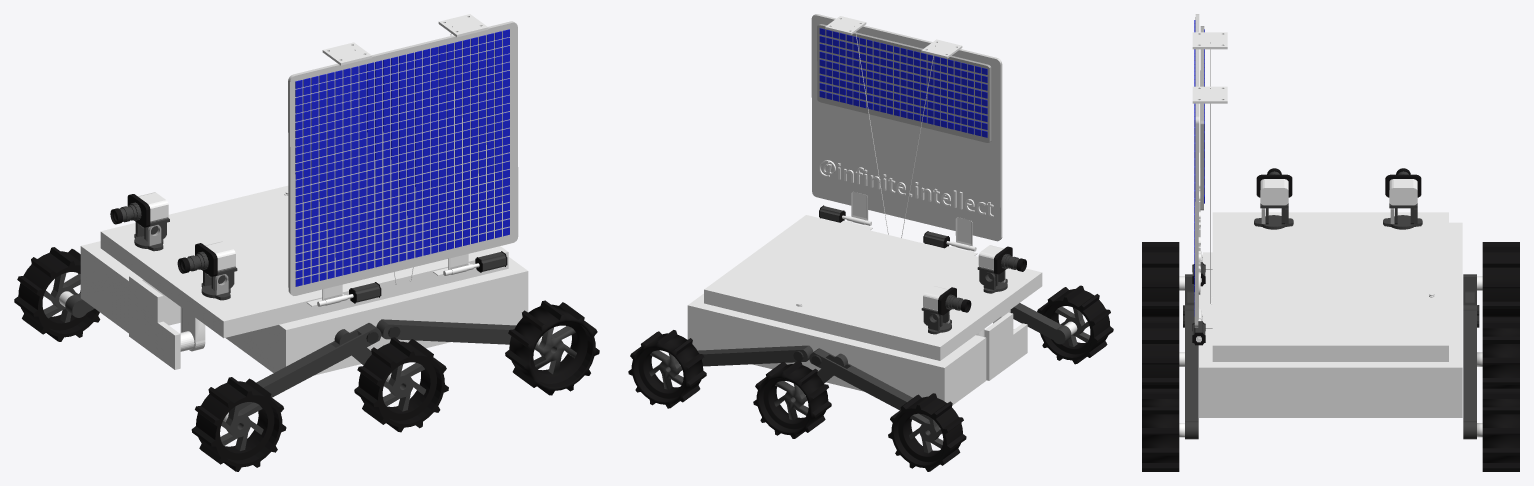
Rendered from pragyan_rover.glb.
3 renders of one model, left to right at view 1: azimuth 30°, elevation 25°; view 2: azimuth 150°, elevation 25°; view 3: azimuth 270°, elevation 25°, orthographic. The views are drawn at different scales.
Parts seen in each view (by area): view 1: PragyanRoverAch.985_39, PragyanRoverAch.952_35, PragyanRoverAch.1028_5, PragyanRoverAch.1023_3, PragyanRoverAch.1026_4, PragyanRoverAch.1014_0, PragyanRoverAch.941_25, PragyanRoverAch.1035_23, PragyanRoverAch.1037_24; view 2: PragyanRoverAch.952_35, PragyanRoverAch.985_39, PragyanRoverAch.1014_0, PragyanRoverAch.1019_2, PragyanRoverAch.1016_1, PragyanRoverAch.1023_3, PragyanRoverAch.941_25, PragyanRoverAch.1032_22, PragyanRoverAch.1031_21, PragyanRoverAch.1035_23; view 3: PragyanRoverAch.952_35, PragyanRoverAch.985_39, PragyanRoverAch.1019_2, PragyanRoverAch.1028_5, PragyanRoverAch.1014_0, PragyanRoverAch.1023_3, PragyanRoverAch.1016_1, PragyanRoverAch.1026_4, PragyanRoverAch.1031_21, PragyanRoverAch.1037_24, PragyanRoverAch.1032_22.
Boxes of the visible parts, x1,y1,x2,y2 form: PragyanRoverAch.985_39: (288, 14, 518, 305); PragyanRoverAch.952_35: (80, 185, 528, 375); PragyanRoverAch.1028_5: (505, 300, 599, 395); PragyanRoverAch.1023_3: (191, 377, 286, 471); PragyanRoverAch.1026_4: (354, 337, 448, 432); PragyanRoverAch.1014_0: (14, 247, 100, 341); PragyanRoverAch.941_25: (129, 275, 180, 369); PragyanRoverAch.1035_23: (239, 323, 381, 410); PragyanRoverAch.1037_24: (376, 319, 516, 344); PragyanRoverAch.952_35: (687, 215, 1042, 405); PragyanRoverAch.985_39: (811, 14, 1002, 250); PragyanRoverAch.1014_0: (888, 393, 966, 471); PragyanRoverAch.1019_2: (628, 330, 706, 408); PragyanRoverAch.1016_1: (753, 360, 831, 438); PragyanRoverAch.1023_3: (1037, 285, 1113, 364); PragyanRoverAch.941_25: (984, 312, 1027, 380); PragyanRoverAch.1032_22: (809, 348, 929, 419); PragyanRoverAch.1031_21: (697, 345, 813, 366); PragyanRoverAch.1035_23: (1010, 303, 1071, 344); PragyanRoverAch.952_35: (1198, 168, 1462, 417); PragyanRoverAch.985_39: (1192, 14, 1227, 345); PragyanRoverAch.1019_2: (1477, 388, 1519, 471); PragyanRoverAch.1028_5: (1142, 388, 1184, 471); PragyanRoverAch.1014_0: (1477, 242, 1519, 317); PragyanRoverAch.1023_3: (1142, 242, 1184, 317); PragyanRoverAch.1016_1: (1477, 318, 1519, 388); PragyanRoverAch.1026_4: (1142, 318, 1184, 388); PragyanRoverAch.1031_21: (1463, 311, 1479, 439); PragyanRoverAch.1037_24: (1183, 311, 1198, 439); PragyanRoverAch.1032_22: (1463, 274, 1479, 315).
Bounding box in the file's own units: 1.25 × 1.11 × 1.1.
